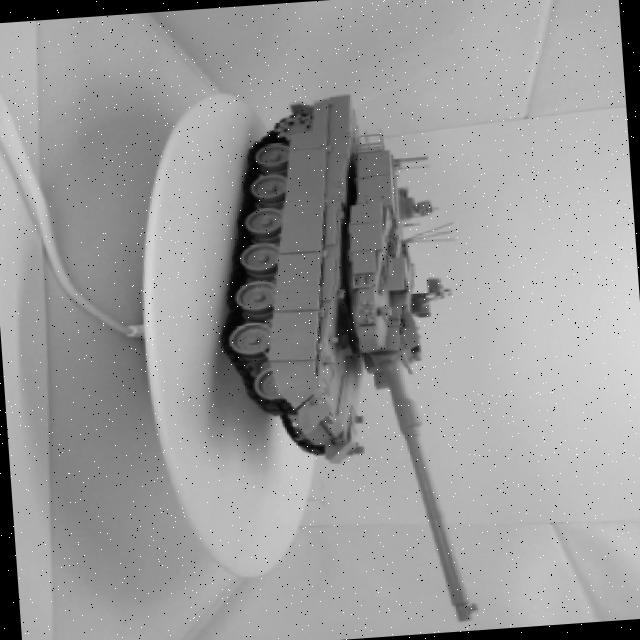korea tank: (191, 47, 493, 640)
